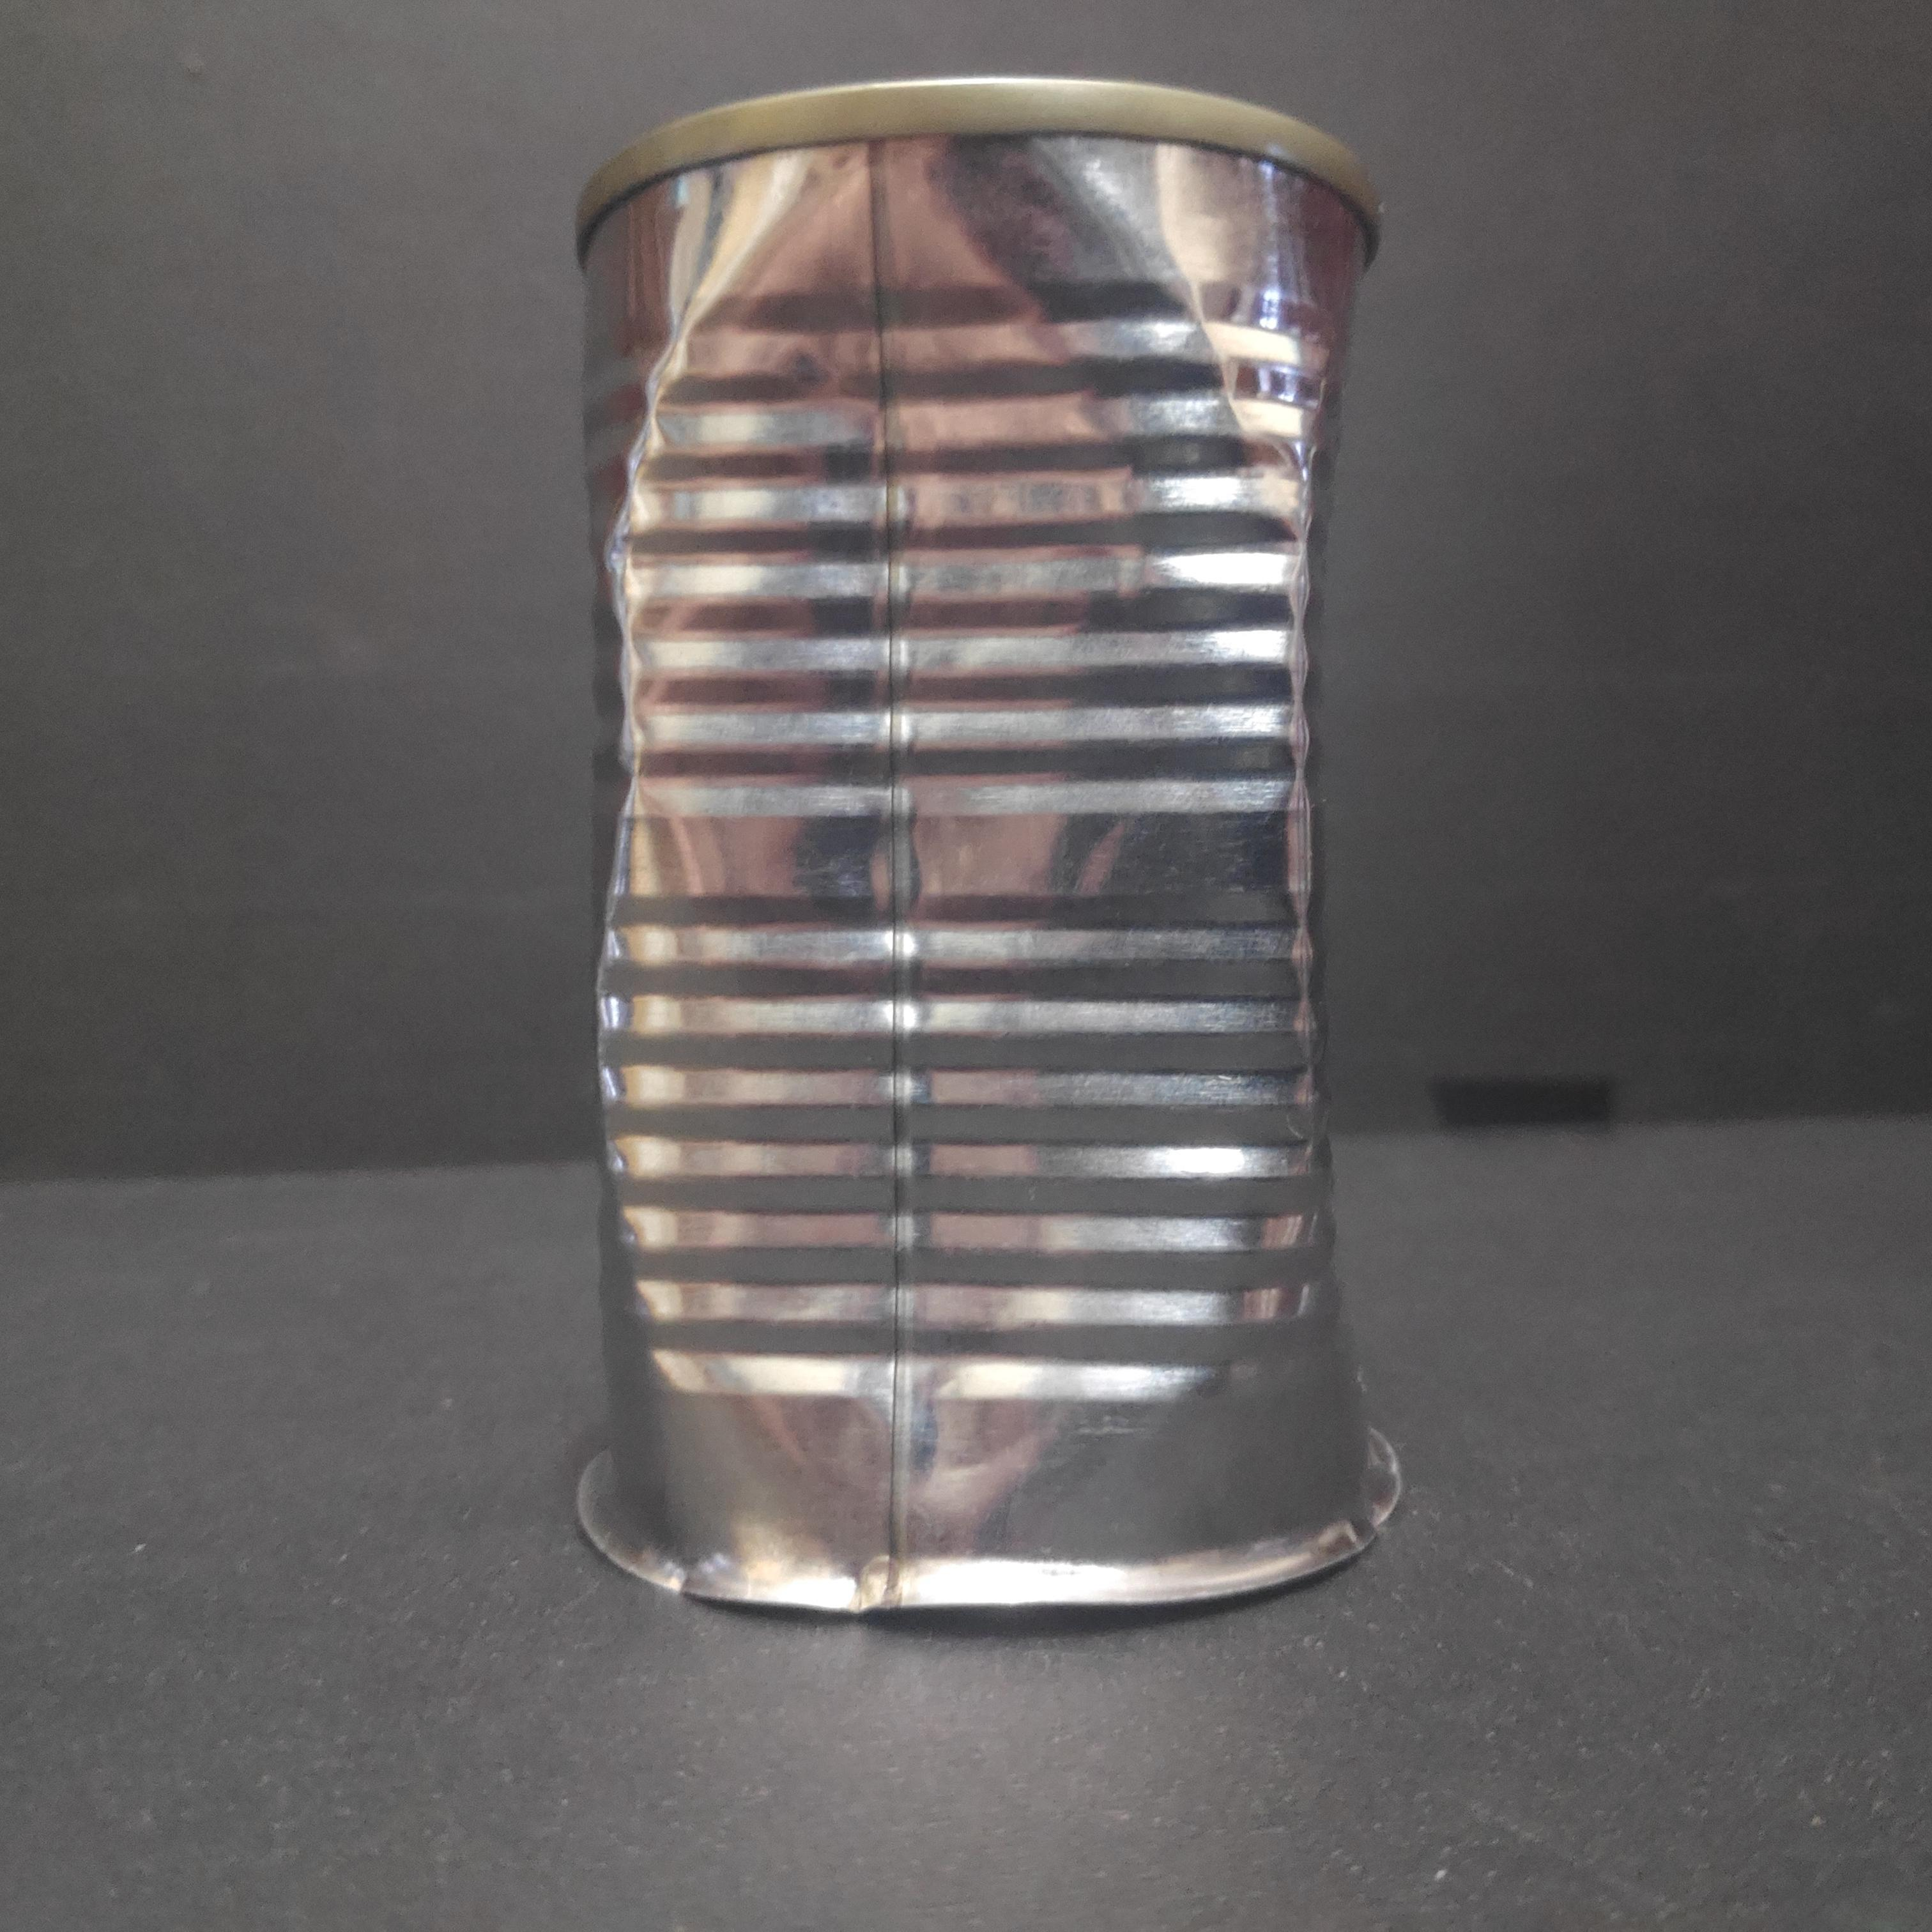Dented: (559, 58, 1419, 1635)
